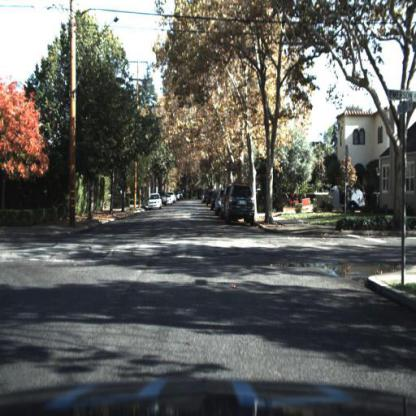car: (324, 180, 368, 216), (224, 178, 254, 227), (145, 191, 164, 211), (146, 192, 162, 210)
